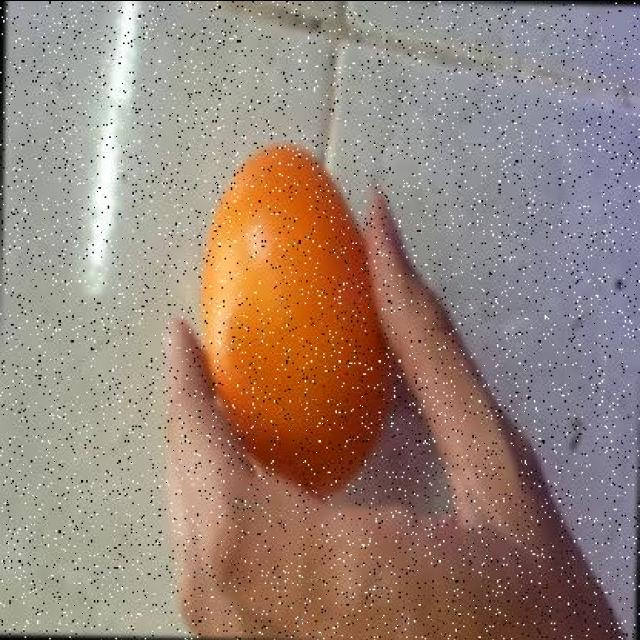Orange: (196, 142, 396, 498)
